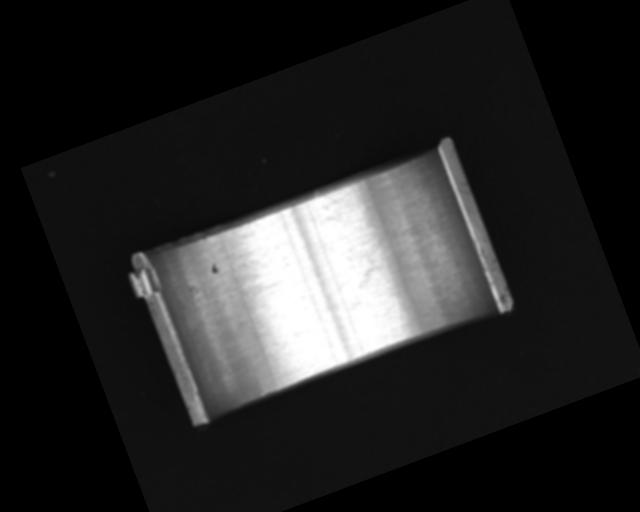blot: (342, 233, 400, 292)
bruise: (208, 259, 221, 276)
nick: (384, 298, 411, 338)
